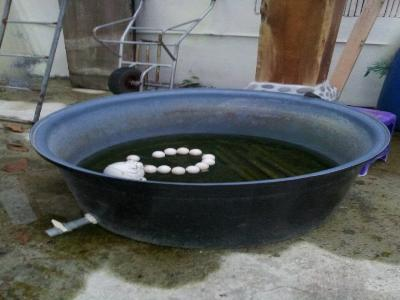bowl: (27, 86, 392, 251)
